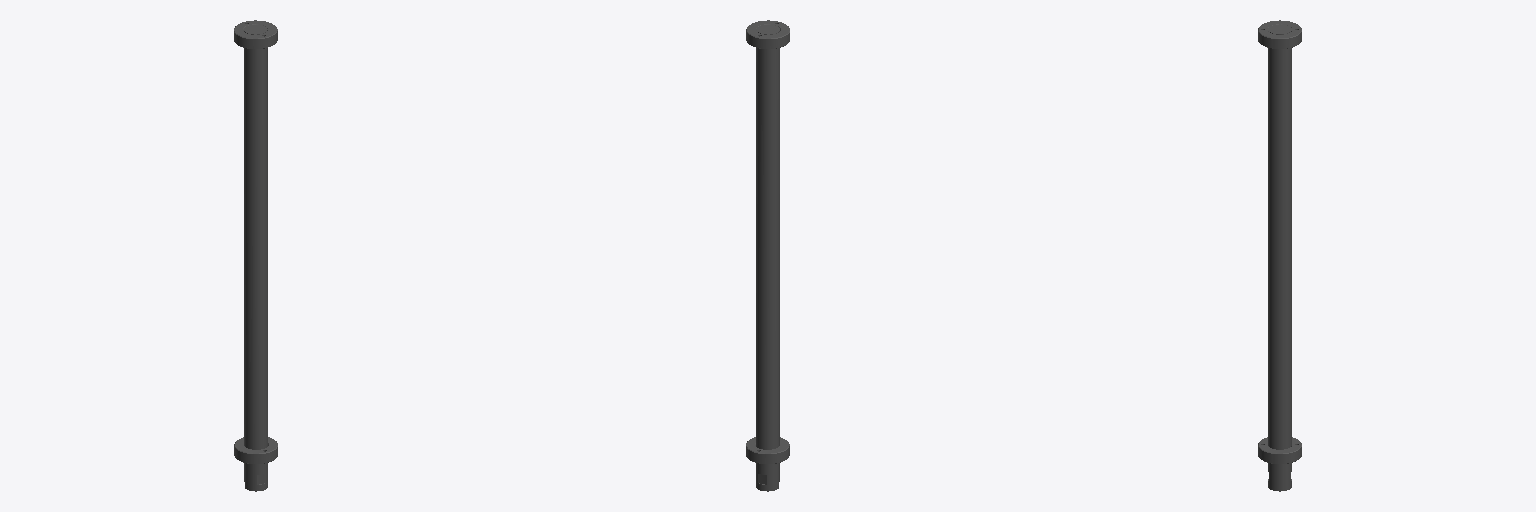
The robot description file, URDF, robot "spjbot":
<?xml version="1.0" ?>
<!-- =================================================================================== -->
<!-- |    This document was autogenerated by xacro from [local-path]/workspaces/catkin_ws/src/calibration/atom/atom_examples/spjbot/spjbot_description/urdf/scara.urdf.xacro | -->
<!-- |    EDITING THIS FILE BY HAND IS NOT RECOMMENDED                                 | -->
<!-- =================================================================================== -->
<robot name="spjbot">
    <!-- ####################################### -->
    <!-- Arguments and propperties-->
    <!-- ####################################### -->
    <!--Args are local, properties are global, so we copy the values of the arguments to the properties-->
    <!--Properties are global so they can be viewed from inside the included xacros-->
    <!--  args are used with $(arg arg_name), properties are used as ${property_name}-->
    <!-- Define materials -->
    <material name="yellow">
        <color rgba="0.88 0.69 0 1" />
    </material>
    <material name="dark_grey">
        <color rgba="0.4 0.4 0.4 1" />
    </material>
    <material name="black">
        <color rgba="0 0 0 1" />
    </material>
    <!-- ####################################### -->
    <!-- Include files-->
    <!-- ####################################### -->
    <!-- ####################################### -->
    <!-- Declare links and joints -->
    <!-- ####################################### -->
    <!-- Define base_link -->
    <link name="base_link" />
    <link name="base_link_inertia">
        <visual>
            <origin rpy="0 0 0.001" xyz="0 0 0" />
            <geometry>
                <mesh filename="package://spjbot_description/meshes/fanuc_scara/base.stl" />
            </geometry>
            <material name="black" />
        </visual>
        <collision name="base_link_collision">
            <origin rpy="0 0 0" xyz="0 0 0.001" />
            <geometry>
                <mesh filename="package://spjbot_description/meshes/fanuc_scara/base.stl" />
            </geometry>
        </collision>
        <inertial>
            <origin xyz="-0.0727 0.0048 0.0922" rpy="0 0 0" />
            <mass value="29.8000" />
            <inertia ixx="0.1338" ixy="0.0010" ixz="0.0060" iyy="0.2240" iyz="0.0001" izz="0.2082" />
        </inertial>
    </link>
    <joint name="base_link_to_base_link_inertia" type="fixed">
        <parent link="base_link" />
        <child link="base_link_inertia" />
        <origin rpy="0 0 0" xyz="0 0 0" />
        <dynamics damping="0.5" friction="0.0" />
    </joint>
    <!-- Define  upper_arm link -->
    <link name="upper_arm_link">
        <visual>
            <origin rpy="0 0 0" xyz="0 0 0" />
            <geometry>
                <mesh filename="package://spjbot_description/meshes/fanuc_scara/upper_arm.stl" />
            </geometry>
            <material name="yellow" />
        </visual>
        <collision name="upper_arm_collision">
            <origin rpy="0 0 0" xyz="0 0 0" />
            <geometry>
                <mesh filename="package://spjbot_description/meshes/fanuc_scara/upper_arm.stl" />
            </geometry>
        </collision>
        <inertial>
            <origin xyz="0.1944 -0.0010 0.0301" rpy="0 0 0" />
            <mass value="0.40000" />
            <inertia ixx="0.0021" ixy="-0.0000" ixz="0.0006" iyy="0.0178" iyz="0.0000" izz="0.0190" />
        </inertial>
    </link>
    <!-- Define shoulder joint -->
    <joint name="j1_joint" type="revolute">
        <parent link="base_link_inertia" />
        <child link="upper_arm_link" />
        <origin rpy="0 0 0" xyz="0 0 0.182" />
        <axis xyz="0 0 1" />
        <limit effort="100.0" lower="-2.50" upper="2.50" velocity="0.5" />
        <dynamics damping="0.5" friction="0.0" />
    </joint>
    <!-- Define  forearm link -->
    <link name="forearm_link">
        <visual>
            <origin rpy="0 0 0" xyz="0 0 0" />
            <geometry>
                <mesh filename="package://spjbot_description/meshes/fanuc_scara/forearm.stl" />
            </geometry>
            <material name="yellow" />
        </visual>
        <collision name="upper_arm_collision">
            <origin rpy="0 0 0" xyz="0 0 0" />
            <geometry>
                <mesh filename="package://spjbot_description/meshes/fanuc_scara/forearm.stl" />
            </geometry>
        </collision>
        <inertial>
            <origin xyz="0.1511 0.0006 0.0958" rpy="0 0 0" />
            <mass value="0.5" />
            <inertia ixx="0.0089" ixy="0.0000" ixz="0.0012" iyy="0.0268" iyz="-0.0000" izz="0.0231" />
        </inertial>
    </link>
    <!-- Define elbow joint -->
    <joint name="j2_joint" type="revolute">
        <parent link="upper_arm_link" />
        <child link="forearm_link" />
        <origin rpy="0 0 0" xyz="0.35 0 0.022" />
        <axis xyz="0 0 1" />
        <limit effort="100.0" lower="-2.50" upper="2.50" velocity="0.5" />
        <dynamics damping="0.5" friction="0.0" />
    </joint>
    <!-- Define vertical prismatic link -->
    <link name="wrist_link">
        <inertial>
            <mass value="0.01" />
            <origin rpy="0 0 0" xyz="0 0 0" />
            <inertia ixx="0.001" ixy="0" ixz="0" iyy="0.001" iyz="0" izz="0.001" />
        </inertial>
    </link>
    <!-- Define prismatic vertical  joint -->
    <joint name="j3_joint" type="prismatic">
        <parent link="forearm_link" />
        <child link="wrist_link" />
        <origin rpy="0 3.14 0" xyz="0.30 0 0" />
        <axis xyz="0 0 1" />
        <limit effort="100.0" lower="0.05" upper="0.265" velocity="0.2" />
    </joint>
    <!-- Define end_effector link -->
    <link name="end_effector_link">
        <visual>
            <origin rpy="0 0 0" xyz="0 0 0" />
            <geometry>
                <mesh filename="package://spjbot_description/meshes/fanuc_scara/end_effector.stl" />
            </geometry>
            <material name="dark_grey" />
        </visual>
        <collision name="upper_arm_collision">
            <origin rpy="0 0 0" xyz="0 0 0" />
            <geometry>
                <mesh filename="package://spjbot_description/meshes/fanuc_scara/end_effector.stl" />
            </geometry>
        </collision>
        <inertial>
            <origin xyz="-0.0002 -0.0000 -0.2209" rpy="0 0 0" />
            <mass value="0.01" />
            <inertia ixx="0.0029" ixy="-0.0000" ixz="0.0000" iyy="0.0029" iyz="-0.0000" izz="0.0000" />
        </inertial>
    </link>
    <!-- Define rotation of end effector joint -->
    <joint name="j4_joint" type="revolute">
        <parent link="wrist_link" />
        <child link="end_effector_link" />
        <origin rpy="0 0 0" xyz="0 0 0.0" />
        <axis xyz="0 0 1" />
        <limit effort="100.0" lower="-3.14" upper="3.14" velocity="0.2" />
    </joint>
    <gazebo reference="base_link">
        <material>Gazebo/Black</material>
        <mu1>0.8</mu1>
        <mu2>0.8</mu2>
        <kp>10000000.0</kp>
        <kd>1.0</kd>
        <selfCollide>false</selfCollide>
        <plugin name="gazebo_ros_control">
            <robotNamespace>/</robotNamespace>
        </plugin>
    </gazebo>
    <gazebo reference="upper_arm_link">
        <material>Gazebo/DarkYellow</material>
        <mu1>0.8</mu1>
        <mu2>0.8</mu2>
        <kp>10000000.0</kp>
        <kd>1.0</kd>
        <selfCollide>false</selfCollide>
    </gazebo>
    <gazebo reference="forearm_link">
        <material>Gazebo/DarkYellow</material>
        <mu1>0.8</mu1>
        <mu2>0.8</mu2>
        <kp>10000000.0</kp>
        <kd>1.0</kd>
        <selfCollide>false</selfCollide>
    </gazebo>
    <gazebo reference="wrist_link">
        <material>Gazebo/DarkYellow</material>
        <mu1>0.8</mu1>
        <mu2>0.8</mu2>
        <kp>10000000.0</kp>
        <kd>1.0</kd>
        <selfCollide>false</selfCollide>
    </gazebo>
    <gazebo reference="end_effector_link">
        <material>Gazebo/Grey</material>
        <mu1>0.8</mu1>
        <mu2>0.8</mu2>
        <kp>10000000.0</kp>
        <kd>1.0</kd>
        <selfCollide>false</selfCollide>
    </gazebo>
    <transmission name="trans_j1_joint">
        <type>transmission_interface/SimpleTransmission</type>
        <joint name="j1_joint">
            <hardwareInterface>hardware_interface/PositionJointInterface</hardwareInterface>
        </joint>
        <actuator name="j1_joint_motor">
            <hardwareInterface>hardware_interface/PositionJointInterface</hardwareInterface>
            <mechanicalReduction>1</mechanicalReduction>
        </actuator>
    </transmission>
    <transmission name="trans_j2_joint">
        <type>transmission_interface/SimpleTransmission</type>
        <joint name="j2_joint">
            <hardwareInterface>hardware_interface/PositionJointInterface</hardwareInterface>
        </joint>
        <actuator name="j2_joint_motor">
            <hardwareInterface>hardware_interface/PositionJointInterface</hardwareInterface>
            <mechanicalReduction>1</mechanicalReduction>
        </actuator>
    </transmission>
    <transmission name="trans_j3_joint">
        <type>transmission_interface/SimpleTransmission</type>
        <joint name="j3_joint">
            <hardwareInterface>hardware_interface/PositionJointInterface</hardwareInterface>
        </joint>
        <actuator name="j3_joint_motor">
            <hardwareInterface>hardware_interface/PositionJointInterface</hardwareInterface>
            <mechanicalReduction>1</mechanicalReduction>
        </actuator>
    </transmission>
    <transmission name="trans_j4_joint">
        <type>transmission_interface/SimpleTransmission</type>
        <joint name="j4_joint">
            <hardwareInterface>hardware_interface/PositionJointInterface</hardwareInterface>
        </joint>
        <actuator name="j4_joint_motor">
            <hardwareInterface>hardware_interface/PositionJointInterface</hardwareInterface>
            <mechanicalReduction>1</mechanicalReduction>
        </actuator>
    </transmission>
</robot>

--- Facts derived from the render (not from the file) ---
Views: 3 orthographic renders of the robot side by side, from view 1: azimuth 30°, elevation 25°; view 2: azimuth 150°, elevation 25°; view 3: azimuth 270°, elevation 25°.
Robot: spjbot — 6 links, 5 joints (3 revolute, 1 prismatic, 1 fixed); root link base_link; default pose: all joints at 0 but 1 set to mid-range because 0 is outside their limits (j3_joint = 0.1575).
Visible links, largest first — view 1: end_effector_link; view 2: end_effector_link; view 3: end_effector_link.
Link boxes in pixels (<box>): end_effector_link: <box>234,20,277,491</box>; end_effector_link: <box>746,20,789,491</box>; end_effector_link: <box>1258,20,1301,491</box>.
Bounding box of the posed robot: 0.0376 × 0.037 × 0.425 m (x, y, z).
1 mesh visuals loaded from 4 distinct referenced files (1 binary STL); not drawn: 3 (reference not matched to a file when rendering).